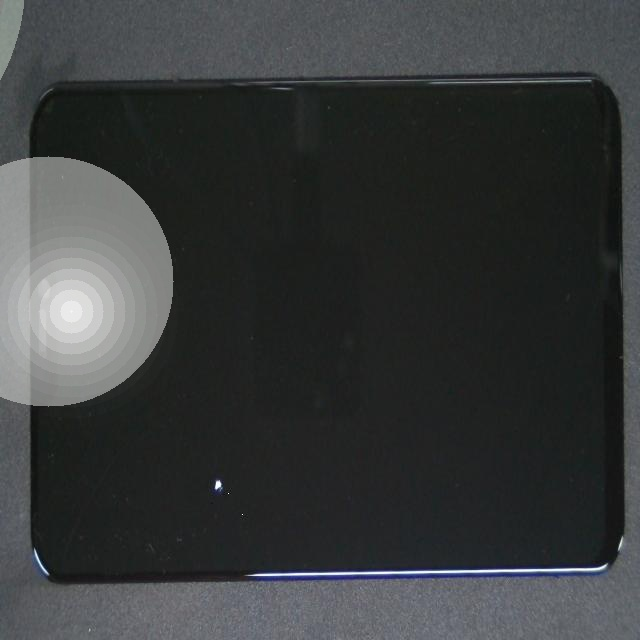stain: (103, 204, 309, 640)
